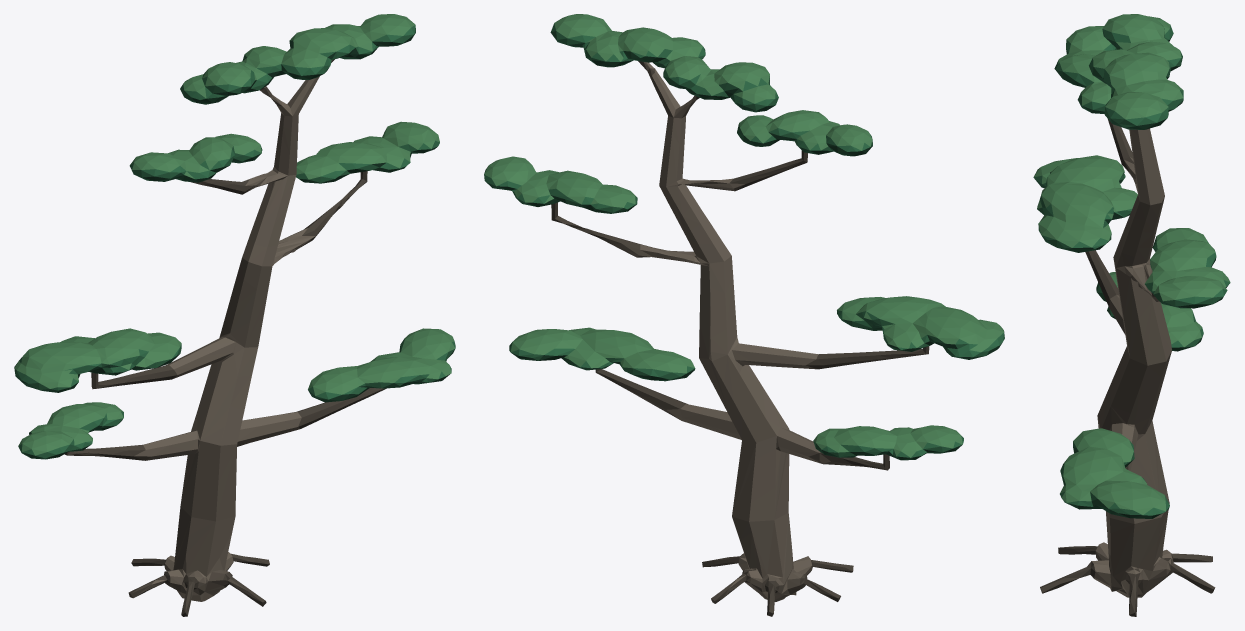
The model's file is ancient-pine-1238-lod0.glb.
3 views of the same model, side by side, from view 1: azimuth 30°, elevation 25°; view 2: azimuth 150°, elevation 25°; view 3: azimuth 270°, elevation 25° (orthographic). The views are drawn at different scales.
Visible parts, largest first — view 1: n8.004, n12.004, n11.004, n9.004, n10.004; view 2: n12.004, n8.004, n11.004, n9.004, n10.004; view 3: n12.004, n8.004, n11.004, n9.004, n10.004.
Part boxes in pixels (box(x1,y1,x2,y2)): n8.004: box(134, 76, 319, 601); n12.004: box(14, 14, 455, 455); n11.004: box(14, 22, 455, 458); n9.004: box(64, 59, 386, 616); n10.004: box(15, 33, 454, 459); n12.004: box(484, 14, 1003, 457); n8.004: box(622, 62, 830, 601); n11.004: box(484, 23, 1004, 457); n9.004: box(551, 61, 929, 616); n10.004: box(486, 34, 1002, 460); n12.004: box(1034, 14, 1230, 514); n8.004: box(1092, 128, 1193, 597); n11.004: box(1033, 25, 1230, 515); n9.004: box(1040, 119, 1215, 616); n10.004: box(1034, 30, 1229, 518).
Size of the model in its own units: 4.9 by 5.42 by 1.6.
